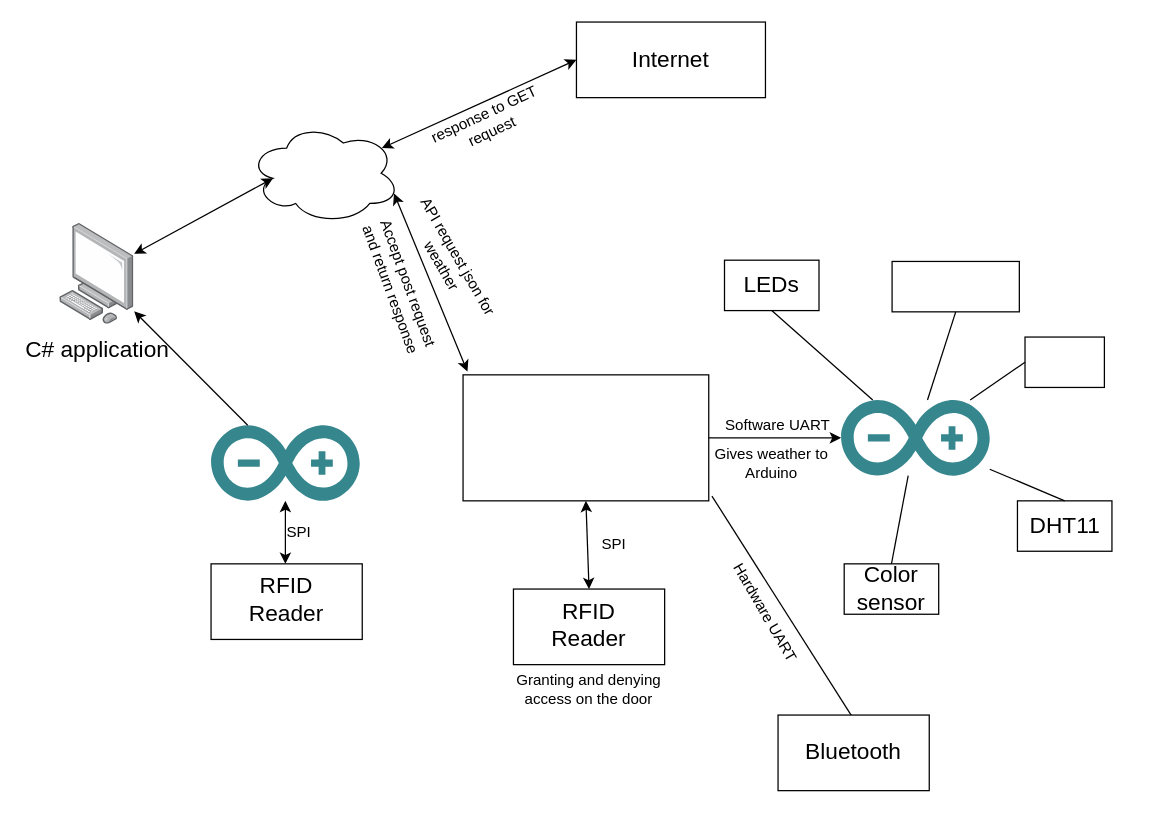
Some shapes in this 1149 by 813 pixel diagram are drawn without their labels. Here are the shapes that lost their labels. From the top down, the centre of each, then its label:
At (324,173): "WiFi".
At (955,286): "Gas sensor".
At (1064,361): "PIR".
At (585,437): "ESP8266 Node MCU".
